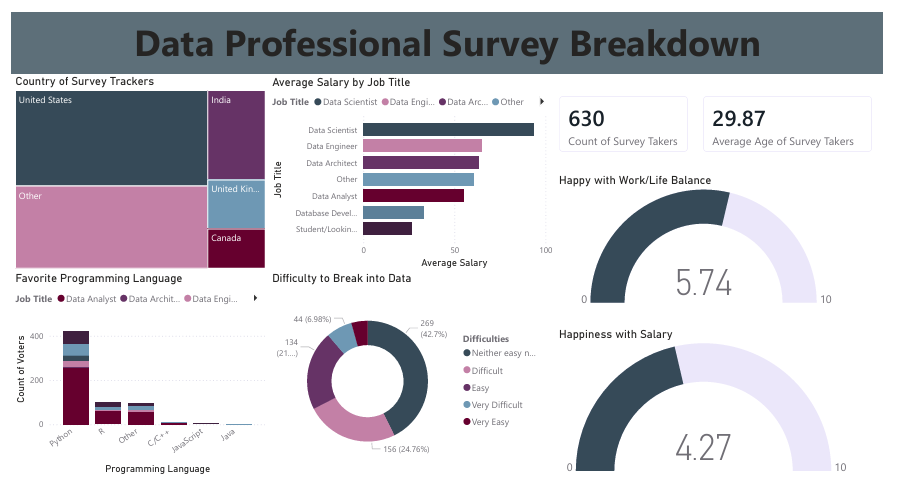

The page's visual inventory and layout, read from the dashboard file:
{"tool":"powerbi","page":{"name":"Page 1","canvas":[1280,720],"ordinal":0},"visuals":[{"type":"textbox","box":[10,0,280,280],"z":0},{"type":"textbox","box":[0,0,1280,90.7],"z":1000},{"type":"cardVisual","fields":{"Data":["CountNonNull(Data Professional Survey.Unique ID)"]},"box":[787.1,105.7,222.9,115.7],"z":2000},{"type":"cardVisual","fields":{"Data":["Avg(Data Professional Survey.Q10 - Current Age)"]},"box":[998.6,105.7,281.4,115.7],"z":3000},{"type":"barChart","title":"Average Salary by Job Title","fields":{"Category":["Data Professional Survey.Q1 - Which Title Best Fits your Current Role?.1"],"Y":["Avg(Data Professional Survey.Average Salary)"],"Series":["Data Professional Survey.Q1 - Which Title Best Fits your Current Role?.1"]},"box":[377.1,91.4,421.4,288.6],"z":4000},{"type":"columnChart","title":"Favorite Programming Language","fields":{"Category":["Data Professional Survey.Q5 - Favorite Programming Language.1"],"Y":["CountNonNull(Data Professional Survey.Unique ID)"],"Series":["Data Professional Survey.Q1 - Which Title Best Fits your Current Role?.1"]},"box":[0,380,377.1,302.9],"z":5000},{"type":"treemap","title":"Country of Survey Trackers","fields":{"Group":["Data Professional Survey.Q11 - Which Country do you live in?.1"],"Values":["CountNonNull(Data Professional Survey.Q11 - Which Country do you live in?.1)"]},"box":[0,90,377.1,290],"z":6000},{"type":"gauge","title":"Happy with Work/Life Balance","fields":{"Y":["Avg(Data Professional Survey.Q6 - How Happy are you in your Current Position with the following? (Work/Life Balance))"],"MinValue":["Min(Data Professional Survey.Q6 - How Happy are you in your Current Position with the following? (Work/Life Balance))1"],"MaxValue":["Max(Data Professional Survey.Q6 - How Happy are you in your Current Position with the following? (Work/Life Balance))2"]},"box":[798.6,235.7,442.9,200],"z":7000},{"type":"gauge","title":"Happiness with Salary","fields":{"Y":["Avg(Data Professional Survey.Q6 - How Happy are you in your Current Position with the following? (Salary))"],"MinValue":["Min(Data Professional Survey.Q6 - How Happy are you in your Current Position with the following? (Salary))"],"MaxValue":["Max(Data Professional Survey.Q6 - How Happy are you in your Current Position with the following? (Salary))"]},"box":[798.6,461.4,442.9,221.4],"z":8000},{"type":"donutChart","title":"Difficulty to Break into Data","fields":{"Category":["Data Professional Survey.Q7 - How difficult was it for you to break into Data?"],"Y":["CountNonNull(Data Professional Survey.Q7 - How difficult was it for you to break into Data?)"]},"box":[377.1,380,410,302.9],"z":9000}]}

Visuals, with their boxes in screenshot pixels (x1, y1, x2, y2), scaled from the page's 1280x720 canvas onto the 901x501 screenshot:
textbox: left=7, top=0, right=204, bottom=195
textbox: left=0, top=0, right=900, bottom=63
cardVisual - CountNonNull(Data Professional Survey.Unique ID): left=554, top=74, right=711, bottom=154
cardVisual - Avg(Data Professional Survey.Q10 - Current Age): left=703, top=74, right=900, bottom=154
"Average Salary by Job Title" barChart: left=265, top=64, right=562, bottom=264
"Favorite Programming Language" columnChart: left=0, top=264, right=265, bottom=475
"Country of Survey Trackers" treemap: left=0, top=63, right=265, bottom=264
"Happy with Work/Life Balance" gauge: left=562, top=164, right=874, bottom=303
"Happiness with Salary" gauge: left=562, top=321, right=874, bottom=475
"Difficulty to Break into Data" donutChart: left=265, top=264, right=554, bottom=475
